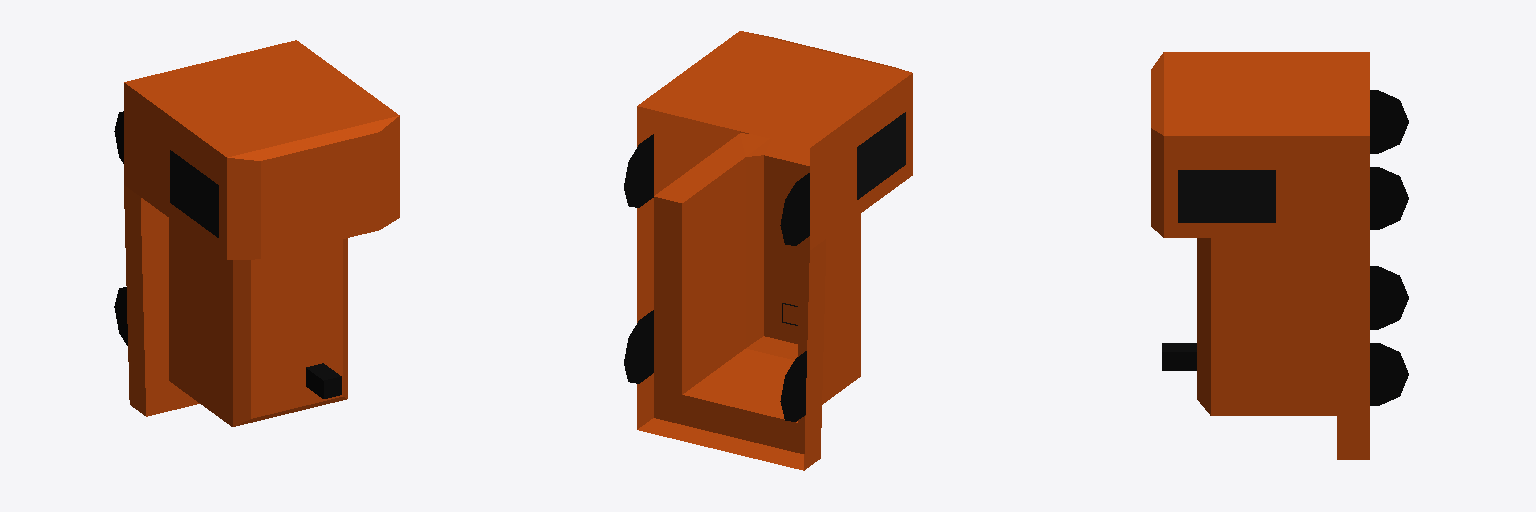
File: shuntern.obj
The picture shows the model from 3 angles: view 1: azimuth 30°, elevation 25°; view 2: azimuth 150°, elevation 25°; view 3: azimuth 270°, elevation 25°; orthographic projection.
Visible parts, largest first — view 1: Cube; view 2: Cube; view 3: Cube.
Boxes of the visible parts, <box> form: Cube: <box>114,40,399,426</box>; Cube: <box>624,31,912,470</box>; Cube: <box>1151,52,1408,459</box>.
Size of the model in its own units: 3.04 by 5.37 by 3.89.